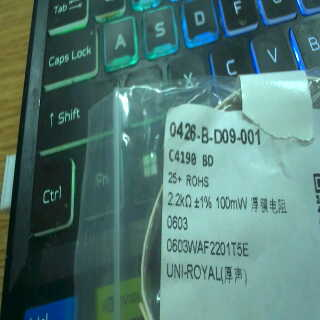2.2kR: (165, 188, 194, 210)
